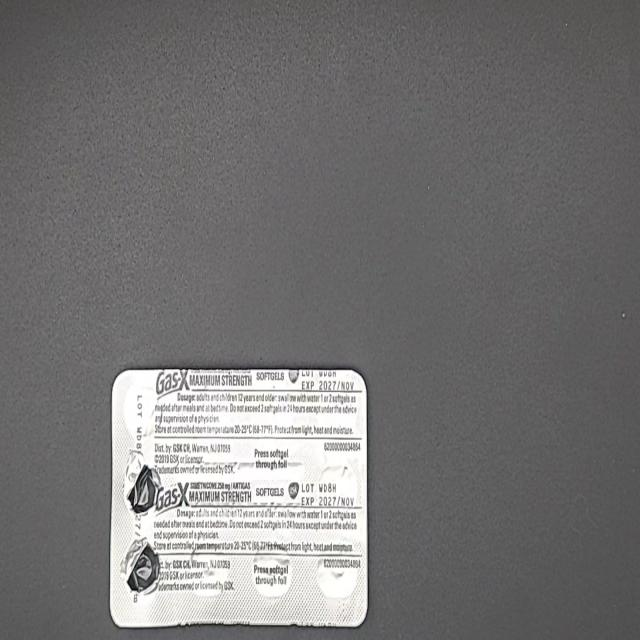defect: (122, 447, 163, 522), (118, 534, 162, 599)
